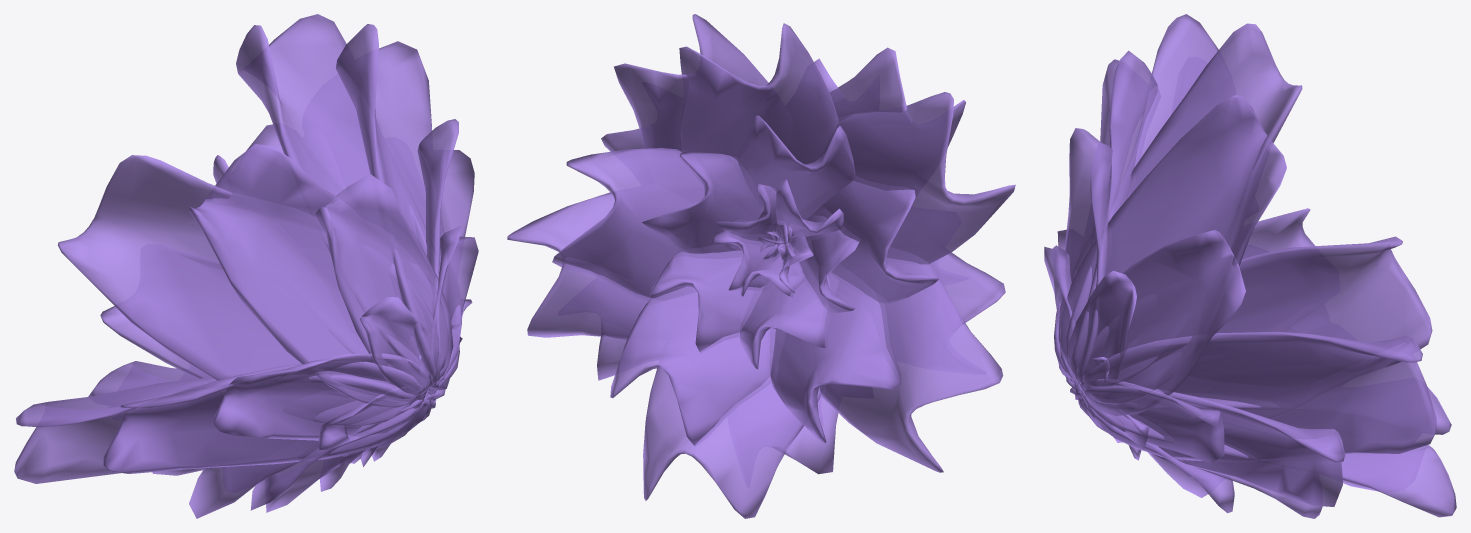
Rendered from add-visual-flower.glb.
3 renders of one model, left to right at view 1: azimuth 30°, elevation 25°; view 2: azimuth 150°, elevation 25°; view 3: azimuth 270°, elevation 25°, orthographic. The views are drawn at different scales.
Visible parts, largest first — view 1: flower1.001; view 2: flower1.001; view 3: flower1.001.
Boxes of the visible parts, left/top/right/bottom form: flower1.001: left=14, top=14, right=478, bottom=518; flower1.001: left=507, top=14, right=1015, bottom=518; flower1.001: left=1044, top=14, right=1456, bottom=518.
Bounding box in the file's own units: 3.59 × 3.63 × 2.76.
